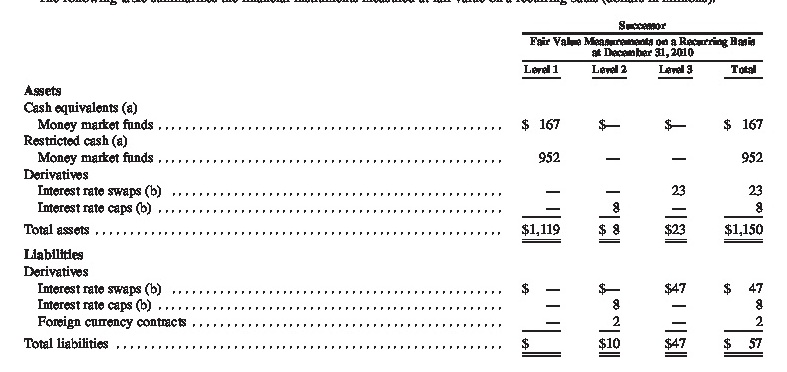table: (0, 0, 787, 372)
